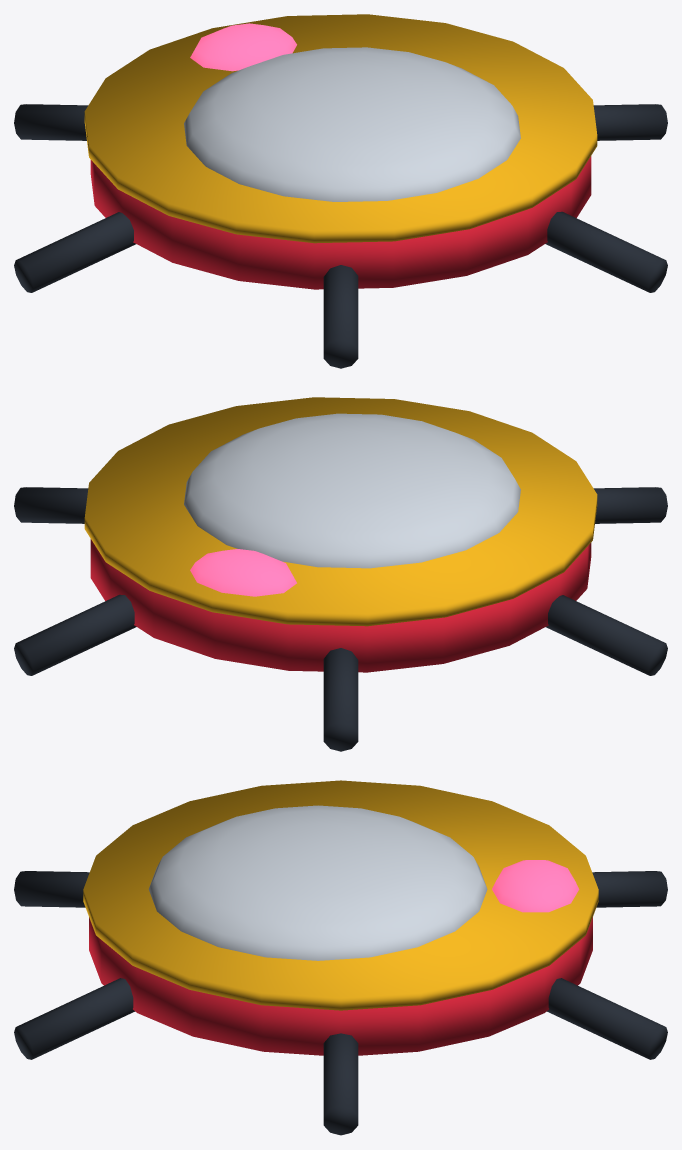
File: Mite.fbx
The picture shows the model from 3 angles, top to bottom: view 1: azimuth 30°, elevation 25°; view 2: azimuth 150°, elevation 25°; view 3: azimuth 270°, elevation 25°; orthographic projection.
Parts seen in each view (by area): view 1: Hazard_Ring0, Silver_Dome0, Shell_Disc0, Metal_Leg2, Metal_Leg4, Eye_Eye0, Metal_Leg3, Metal_Leg1, Metal_Leg5; view 2: Hazard_Ring0, Silver_Dome0, Shell_Disc0, Metal_Leg0, Metal_Leg4, Eye_Eye0, Metal_Leg5, Metal_Leg1, Metal_Leg3; view 3: Hazard_Ring0, Silver_Dome0, Shell_Disc0, Metal_Leg0, Metal_Leg2, Eye_Eye0, Metal_Leg1, Metal_Leg3, Metal_Leg5.
Boxes of the visible parts, x1,y1,x2,y2 form: Hazard_Ring0: [84, 14, 597, 243]; Silver_Dome0: [184, 47, 520, 201]; Shell_Disc0: [90, 156, 591, 289]; Metal_Leg2: [545, 211, 667, 292]; Metal_Leg4: [14, 212, 135, 292]; Eye_Eye0: [190, 23, 296, 71]; Metal_Leg3: [323, 265, 358, 368]; Metal_Leg1: [593, 104, 667, 140]; Metal_Leg5: [14, 104, 88, 140]; Hazard_Ring0: [84, 397, 597, 626]; Silver_Dome0: [184, 413, 520, 568]; Shell_Disc0: [90, 539, 591, 672]; Metal_Leg0: [14, 594, 136, 675]; Metal_Leg4: [546, 595, 667, 675]; Eye_Eye0: [190, 549, 296, 596]; Metal_Leg5: [323, 648, 358, 751]; Metal_Leg1: [14, 487, 88, 523]; Metal_Leg3: [593, 487, 667, 523]; Hazard_Ring0: [83, 780, 598, 1010]; Silver_Dome0: [148, 805, 487, 960]; Shell_Disc0: [89, 917, 592, 1055]; Metal_Leg0: [547, 978, 667, 1059]; Metal_Leg2: [14, 978, 134, 1059]; Eye_Eye0: [492, 860, 579, 912]; Metal_Leg1: [323, 1033, 358, 1135]; Metal_Leg3: [14, 871, 89, 907]; Metal_Leg5: [592, 871, 667, 907].
Bounding box in the file's own units: 0.6467 × 0.5713 × 0.1336.
